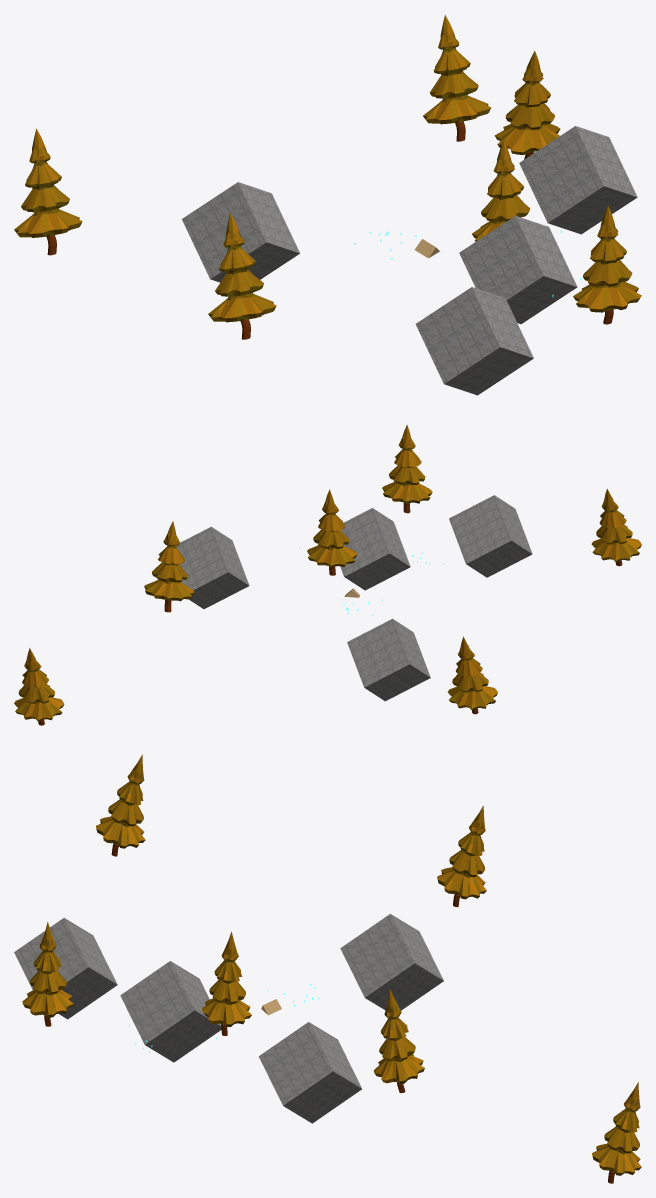
3 views of the same model, one above another, from view 1: azimuth 30°, elevation 25°; view 2: azimuth 150°, elevation 25°; view 3: azimuth 270°, elevation 25° (orthographic). The views are drawn at different scales.
Parts seen in each view (by area): view 1: MeshInstance3D4, MeshInstance3D2, MeshInstance3D3, MeshInstance3D, _9_tree__9_tree_1, _9_tree__9_tree_4, _9_tree__9_tree_5, _9_tree__9_tree_2, _9_tree__9_tree_3, _9_tree__9_tree_0; view 2: MeshInstance3D, MeshInstance3D4, MeshInstance3D2, MeshInstance3D3, _9_tree__9_tree_1, _9_tree__9_tree_0, _9_tree__9_tree_3, _9_tree__9_tree_2, _9_tree__9_tree_5, _9_tree__9_tree_4; view 3: MeshInstance3D2, MeshInstance3D, MeshInstance3D3, MeshInstance3D4, _9_tree__9_tree_4, _9_tree__9_tree_2, _9_tree__9_tree_1, _9_tree__9_tree_5, _9_tree__9_tree_3, _9_tree__9_tree_0.
Part boxes in pixels (x1,y1,x2,y2): MeshInstance3D4: (415, 287, 533, 395); MeshInstance3D2: (519, 126, 637, 234); MeshInstance3D3: (459, 215, 577, 324); MeshInstance3D: (182, 182, 299, 282); _9_tree__9_tree_1: (573, 205, 641, 324); _9_tree__9_tree_4: (423, 15, 491, 141); _9_tree__9_tree_5: (14, 128, 82, 255); _9_tree__9_tree_2: (208, 213, 276, 339); _9_tree__9_tree_3: (494, 50, 560, 159); _9_tree__9_tree_0: (472, 140, 530, 241); MeshInstance3D: (347, 618, 430, 701); MeshInstance3D4: (449, 495, 532, 577); MeshInstance3D2: (176, 526, 249, 608); MeshInstance3D3: (340, 508, 410, 590); _9_tree__9_tree_1: (382, 425, 432, 513); _9_tree__9_tree_0: (307, 489, 357, 575); _9_tree__9_tree_3: (144, 521, 194, 612); _9_tree__9_tree_2: (591, 489, 641, 566); _9_tree__9_tree_5: (448, 636, 497, 714); _9_tree__9_tree_4: (14, 648, 64, 725); MeshInstance3D2: (258, 1022, 361, 1123); MeshInstance3D: (340, 914, 443, 1010); MeshInstance3D3: (120, 961, 221, 1062); MeshInstance3D4: (14, 918, 117, 1019); _9_tree__9_tree_4: (592, 1082, 641, 1183); _9_tree__9_tree_2: (96, 754, 145, 856); _9_tree__9_tree_1: (22, 922, 73, 1026); _9_tree__9_tree_5: (437, 805, 486, 907); _9_tree__9_tree_3: (373, 989, 424, 1092); _9_tree__9_tree_0: (202, 931, 251, 1035).
Bounding box in the file's own units: 2899 × 1211 × 3201.
4 materials, 3 textured.
